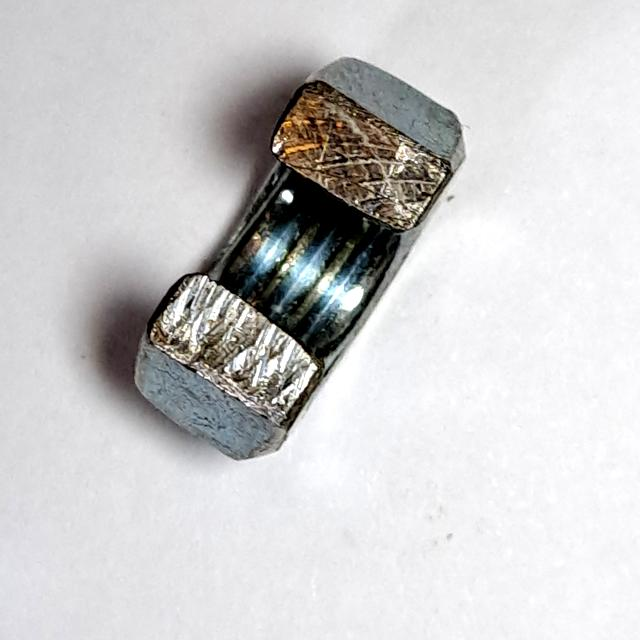Side-Fracture: (117, 45, 479, 471)
